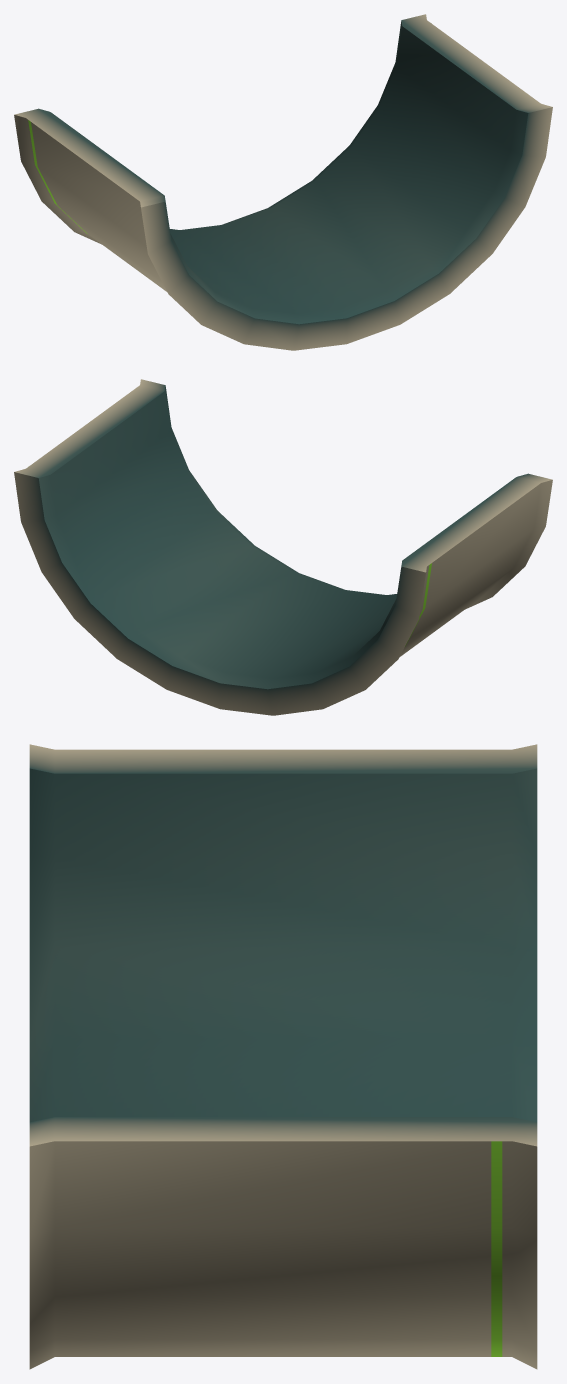
Rendered from shell_crescent.glb.
3 views of the same model, one above another, from view 1: azimuth 30°, elevation 25°; view 2: azimuth 150°, elevation 25°; view 3: azimuth 270°, elevation 25° (orthographic). The views are drawn at different scales.
Visible parts, largest first — view 1: Crescent; view 2: Crescent; view 3: Crescent.
Part boxes in pixels (x1,y1,x2,y2): Crescent: (14, 14, 552, 350); Crescent: (14, 379, 552, 715); Crescent: (29, 744, 537, 1369).
Size of the model in its own units: 3 by 1.3 by 1.6.
